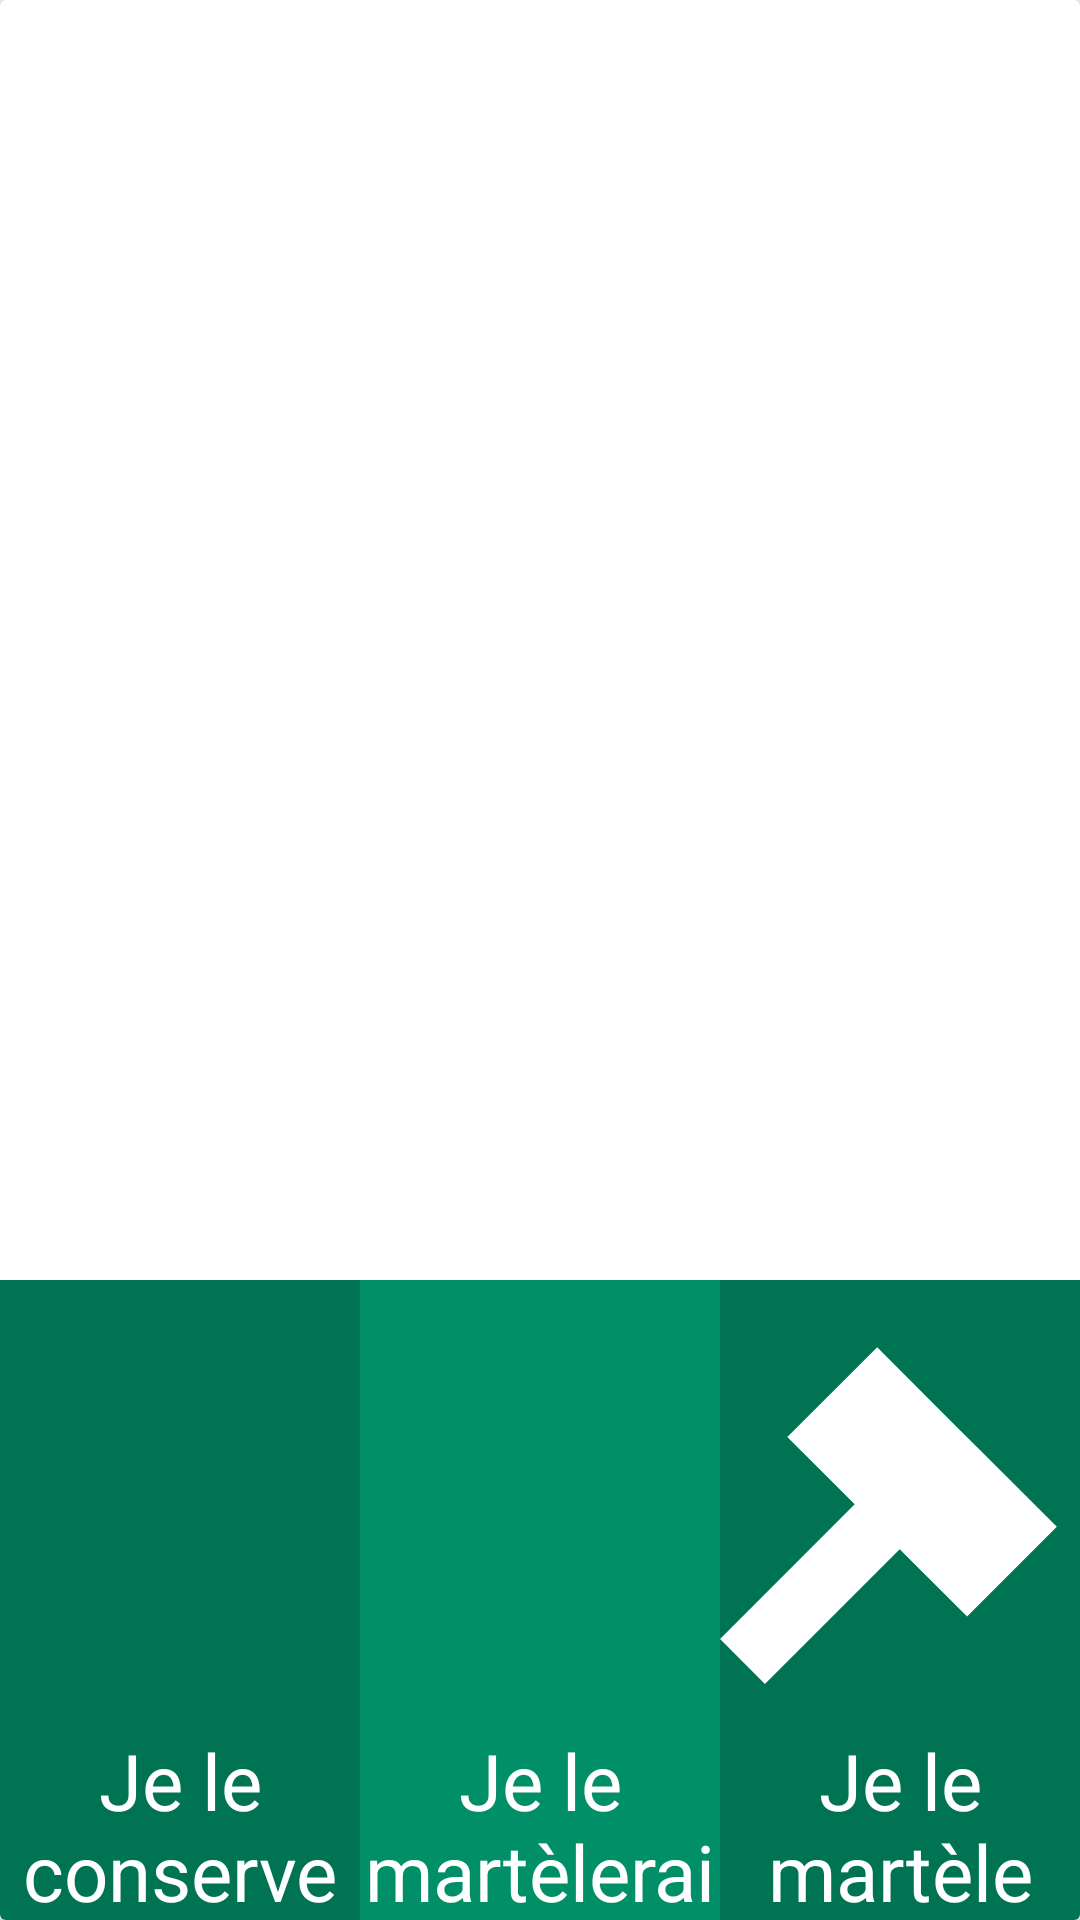

Where to tap for icons on this 1080 × 1920 app screen, as (x,y):
marteau tab: (888,1515)
